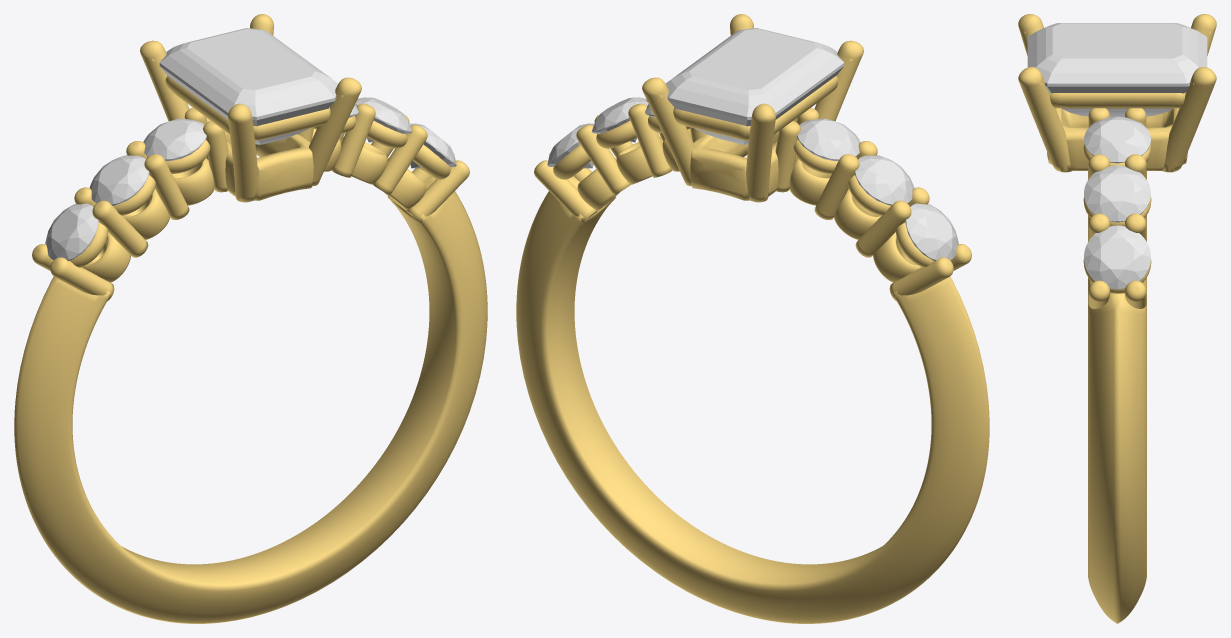
File: diamond-emerald-yellowgold-4prong-knifeedge-7stone.glb
The picture shows the model from 3 angles, left to right: view 1: azimuth 30°, elevation 25°; view 2: azimuth 150°, elevation 25°; view 3: azimuth 270°, elevation 25°; orthographic projection.
Parts seen in each view (by area): view 1: metal, stone, side, side.001, side.002, side.004, side.005; view 2: metal, stone, side, side.001, side.002, side.004, side.005; view 3: metal, stone, side.005, side.004, side.003.
Part boxes in pixels (x1=…): metal: x1=14, y1=14, x2=487, y2=623; stone: x1=159, y1=28, x2=338, y2=144; side: x1=45, y1=203, x2=98, y2=260; side.001: x1=89, y1=155, x2=149, y2=205; side.002: x1=143, y1=118, x2=206, y2=161; side.004: x1=355, y1=97, x2=412, y2=142; side.005: x1=409, y1=123, x2=456, y2=168; metal: x1=516, y1=14, x2=989, y2=623; stone: x1=665, y1=28, x2=844, y2=144; side: x1=905, y1=203, x2=958, y2=260; side.001: x1=854, y1=155, x2=914, y2=205; side.002: x1=797, y1=118, x2=860, y2=161; side.004: x1=591, y1=97, x2=648, y2=142; side.005: x1=547, y1=123, x2=594, y2=168; metal: x1=1018, y1=14, x2=1216, y2=623; stone: x1=1027, y1=23, x2=1207, y2=117; side.005: x1=1084, y1=225, x2=1150, y2=289; side.004: x1=1084, y1=165, x2=1150, y2=222; side.003: x1=1084, y1=116, x2=1150, y2=163.
Bounding box in the file's own units: 20.38 × 22.94 × 7.4.
